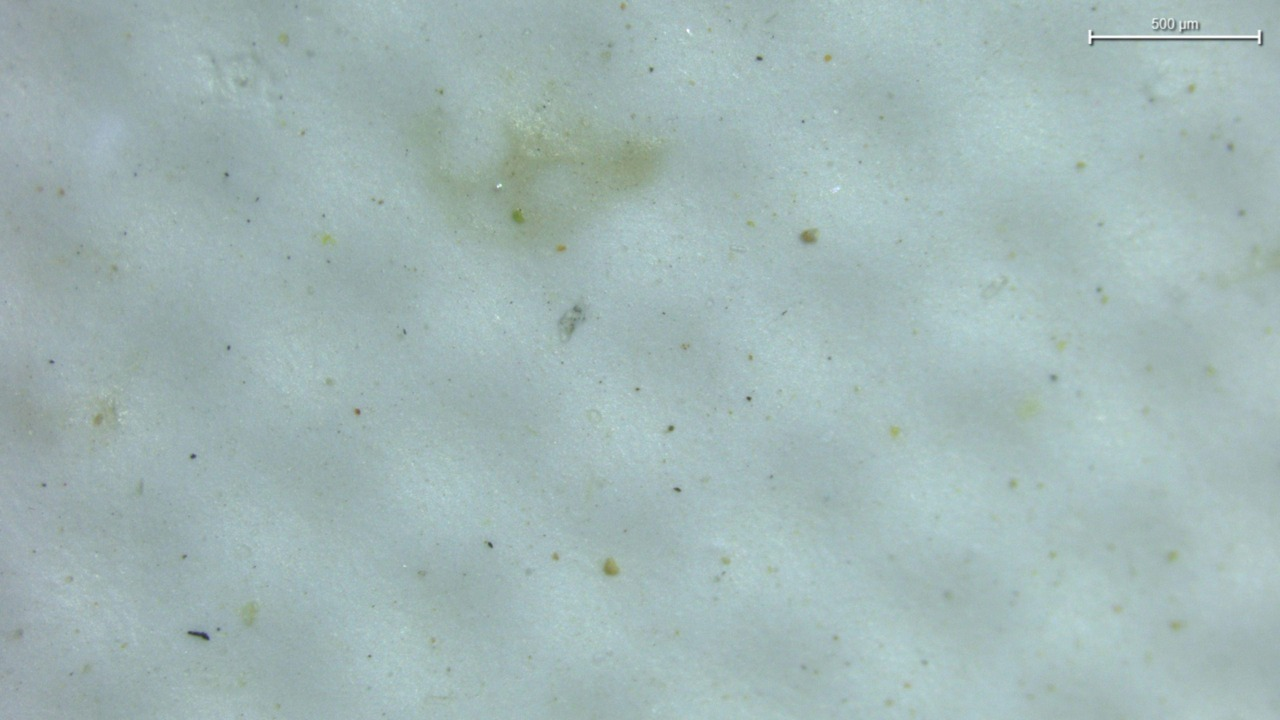microplastic_fragment: (558, 302, 585, 341)
